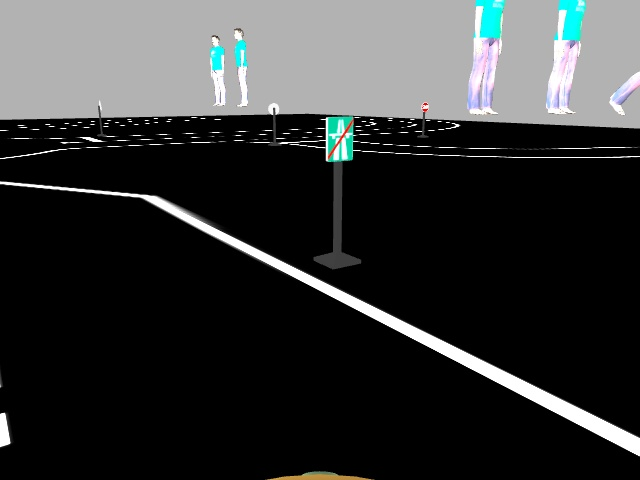HighwayExit: (325, 116, 353, 161)
